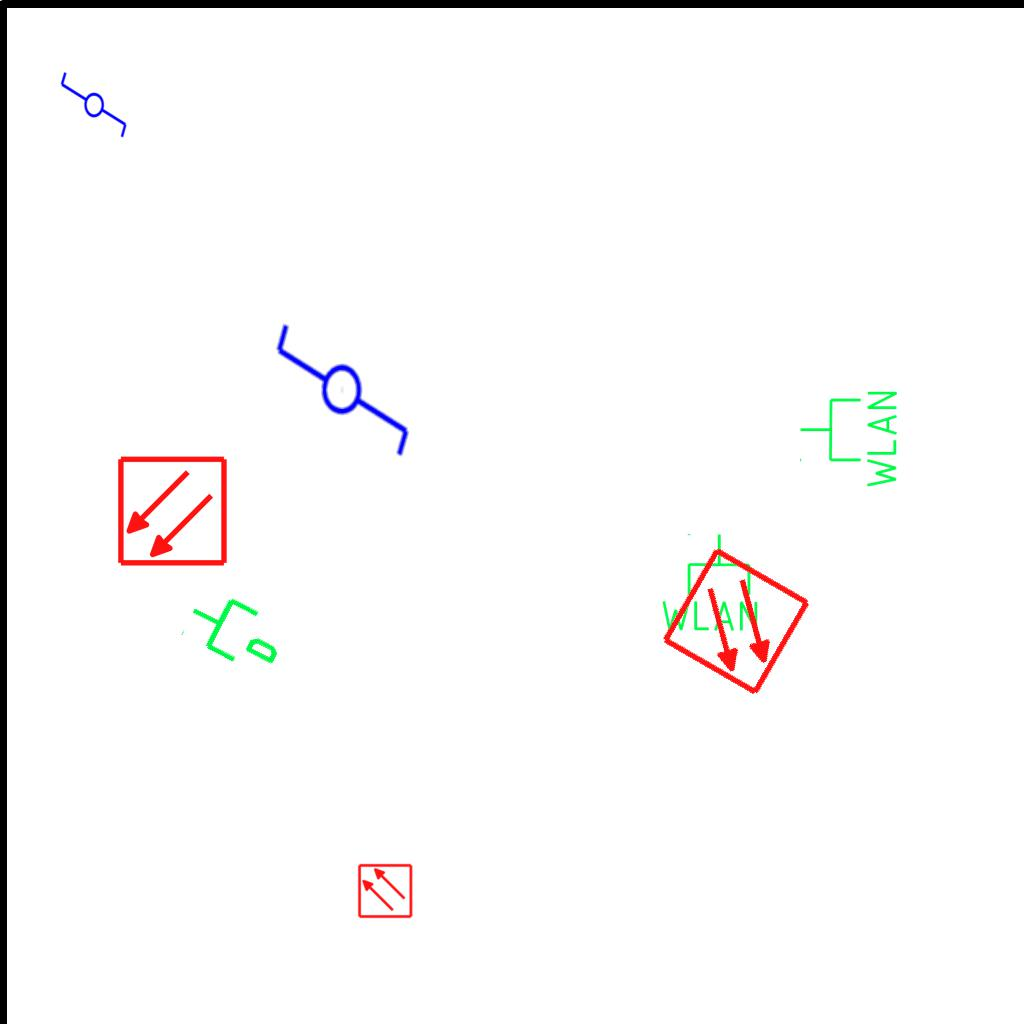Datenanschluss_einfach: (176, 576, 297, 684)
RMO_Rauchmelder_optischer: (659, 544, 814, 699), (116, 455, 229, 568), (357, 863, 413, 919)
WLAN: (797, 387, 901, 492), (657, 531, 762, 635)
Wechselschalter: (272, 303, 416, 460), (57, 70, 129, 148)
